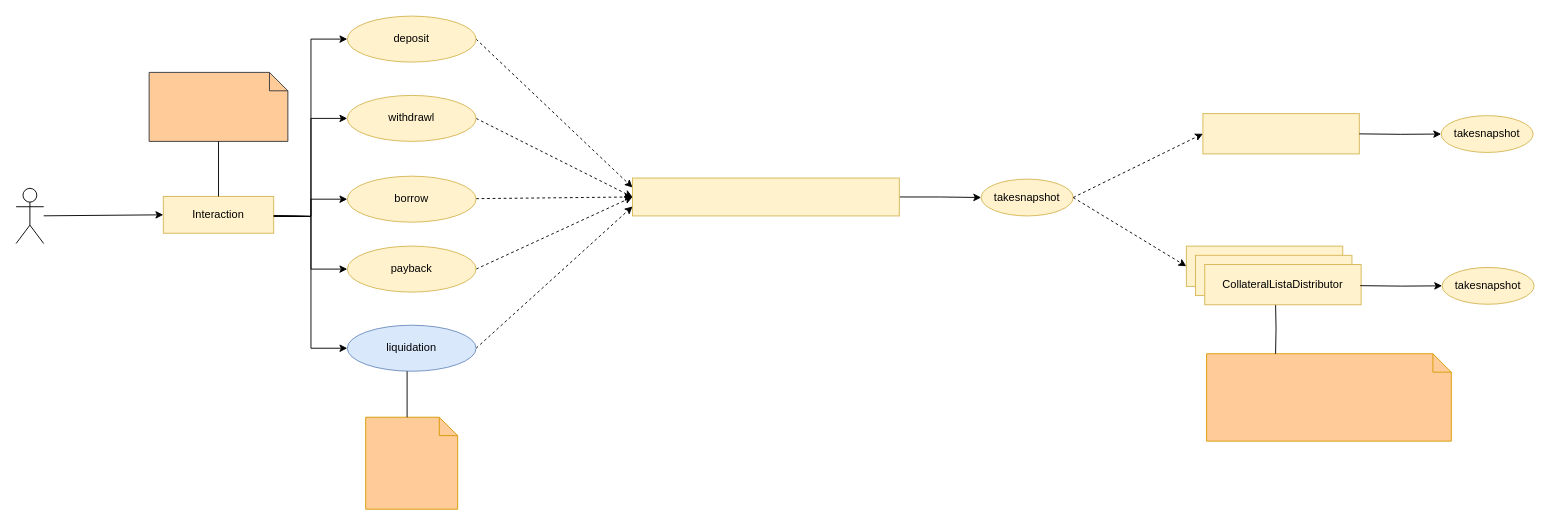
Some shapes in this 1550 by 525 pixel diagram are drawn without their labels. The shapes that lost their labels are listed below. From the top down, each one's centre as x and y in pixels, then its label:
(x=218, y=106): CDP Interaction
(x=1280, y=133): BorrowLisUSDListaDistributor
(x=29, y=215): User
(x=765, y=196): CollateralBollowSnapshotRouter
(x=1328, y=397): Each collateral has one CollateralListaDistributor
(x=411, y=462): Triggered by bot
